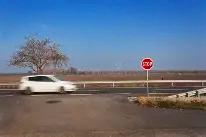Stop: (141, 58, 153, 70)
